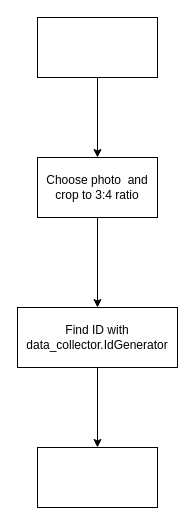
This 195x525 diagram has some shape labels left out. The shapes that lost their labels are listed below. From the top down, each one's centre as x and y in pixels, then its label:
At pixel 97 47: "Start".
At pixel 97 477: "Rename photo to ID and start processing".
